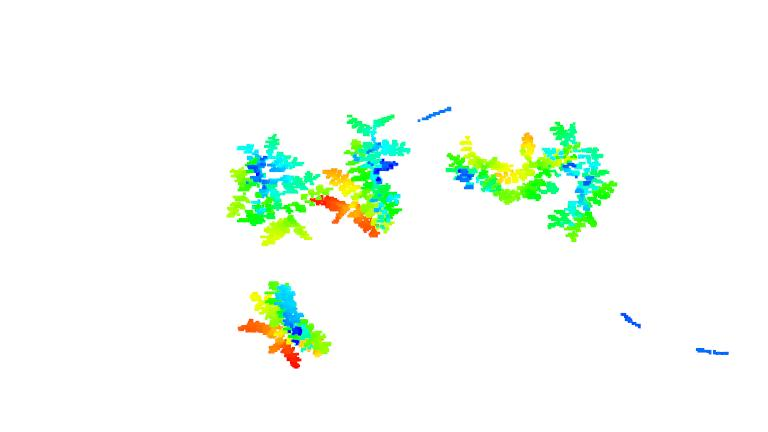chickpea: (317, 111, 409, 235), (223, 132, 323, 241), (542, 119, 618, 244), (238, 276, 331, 374), (445, 132, 562, 205)
